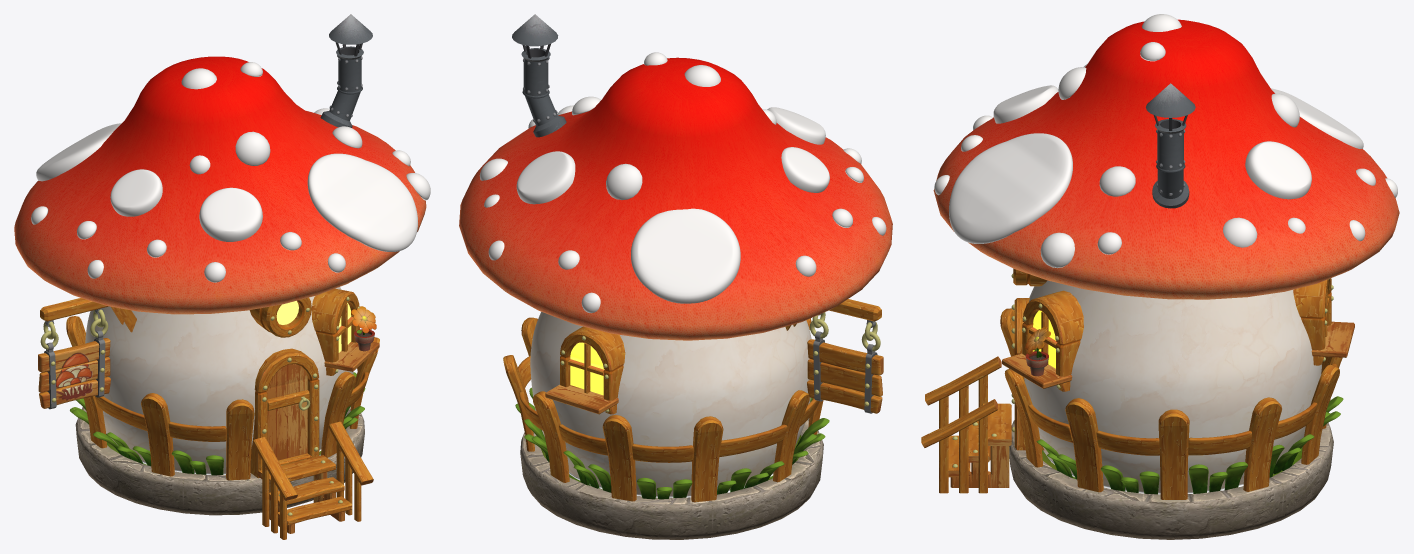
File: mushroom_house.glb
The picture shows the model from 3 angles, left to right: view 1: azimuth 30°, elevation 25°; view 2: azimuth 150°, elevation 25°; view 3: azimuth 270°, elevation 25°; orthographic projection. The views are drawn at different scales.
Visible parts, largest first — view 1: pCylinder1, pCylinder22, pCylinder2, polySurface2, Window, pCube58, pCube20, pCylinder5, pCylinder3, pCube23, pCube40, pCube51 (+8 smaller); view 2: pCylinder1, pCylinder22, pCube40, Window1, pCube58, pCylinder5, polySurface2, polySurface3, pCone1, pCube61, pCube60, pCube51 (+2 smaller); view 3: pCylinder1, pCylinder22, pCube40, Window, Window1, pCylinder5, pCube18, pCube20, pCube23, pCube21, pCube39, pCone1 (+6 smaller).
Boxes of the visible parts, x1,y1,x2,y2 form: pCylinder1: (14, 56, 426, 515); pCylinder22: (31, 62, 430, 282); pCylinder2: (250, 348, 319, 478); polySurface2: (83, 393, 254, 480); Window: (311, 288, 379, 375); pCube58: (38, 338, 110, 408); pCube20: (257, 455, 352, 525); pCylinder5: (320, 46, 363, 127); pCylinder3: (249, 297, 311, 337); pCube23: (321, 371, 355, 457); pCube40: (66, 316, 379, 428); pCube51: (40, 298, 136, 332); pCylinder1: (459, 57, 892, 539); pCylinder22: (479, 52, 886, 313); pCube40: (503, 317, 723, 502); Window1: (545, 326, 625, 414); pCube58: (807, 339, 883, 413); pCylinder5: (521, 48, 566, 137); polySurface2: (773, 318, 823, 482); polySurface3: (719, 424, 787, 456); pCone1: (512, 14, 558, 46); pCube61: (637, 477, 692, 499); pCube60: (563, 450, 611, 492); pCube51: (785, 299, 881, 330); pCylinder1: (933, 19, 1399, 539); pCylinder22: (934, 14, 1397, 267); pCube40: (1028, 356, 1342, 499); Window: (1002, 290, 1083, 391); Window1: (1293, 278, 1354, 365); pCylinder5: (1152, 119, 1189, 208); pCube18: (939, 415, 987, 493); pCube20: (948, 403, 1011, 477); pCube23: (1004, 368, 1043, 467); pCube21: (950, 446, 1009, 487); pCube39: (1188, 462, 1247, 493); pCone1: (1146, 83, 1195, 117).
Bounding box in the file's own units: 0.1203 × 0.1283 × 0.1203.
Materials: 16 (9 with a texture image).
